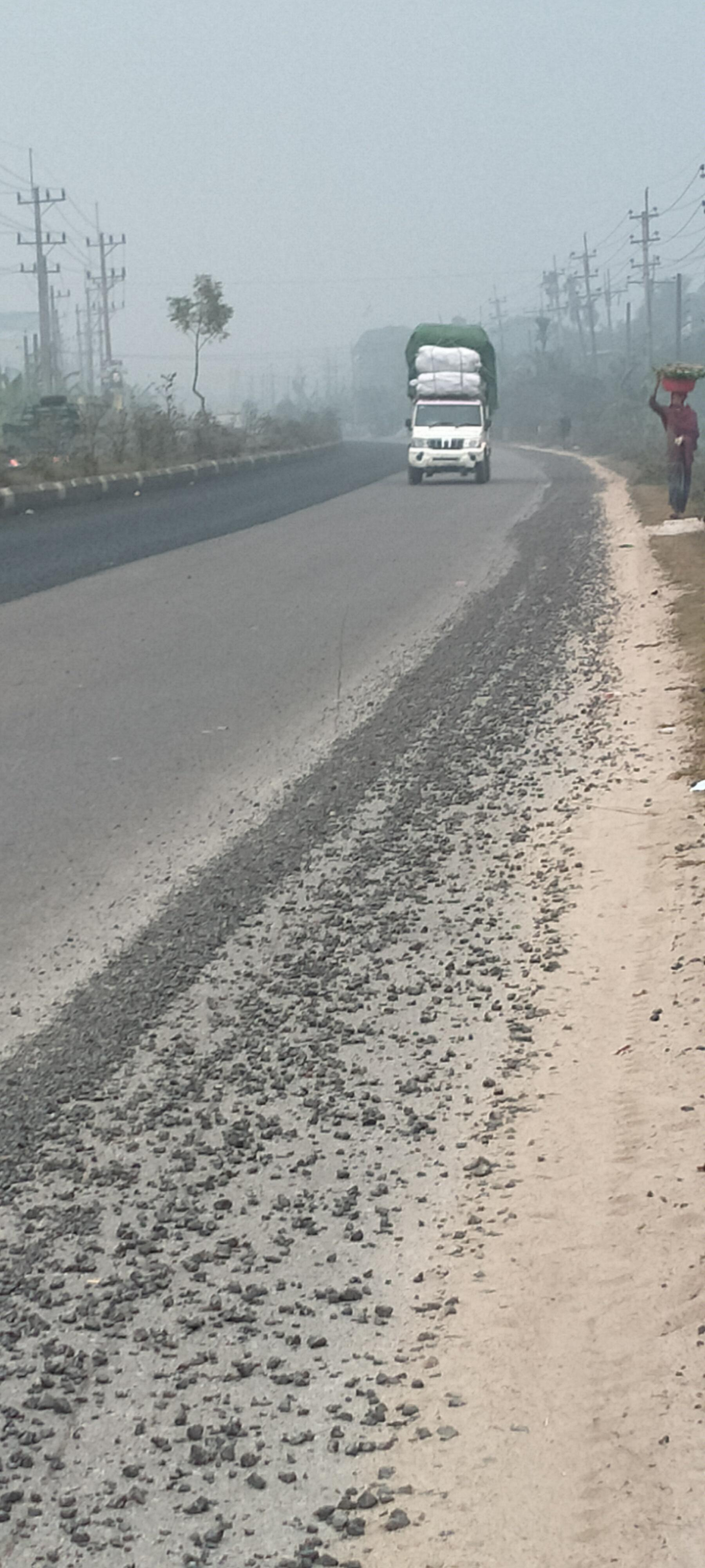Truck: (387, 309, 506, 517)
